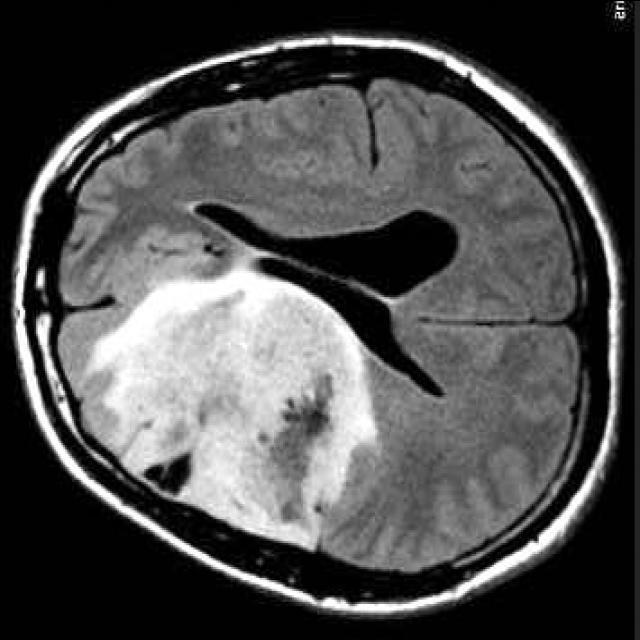tumor: (79, 270, 380, 551)
